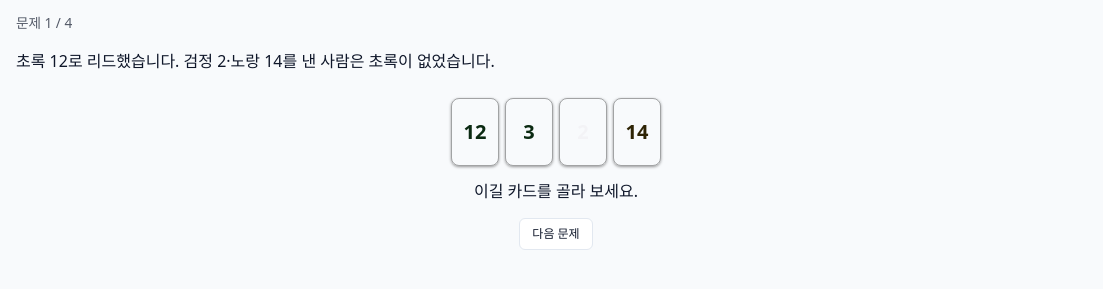
TrickQuiz › 문제 3 의 정답은 티그리스 (해적 선언)
The image size is (1103, 289).
Click the button "다음 문제" at x=556, y=234, box [519,218,593,250]
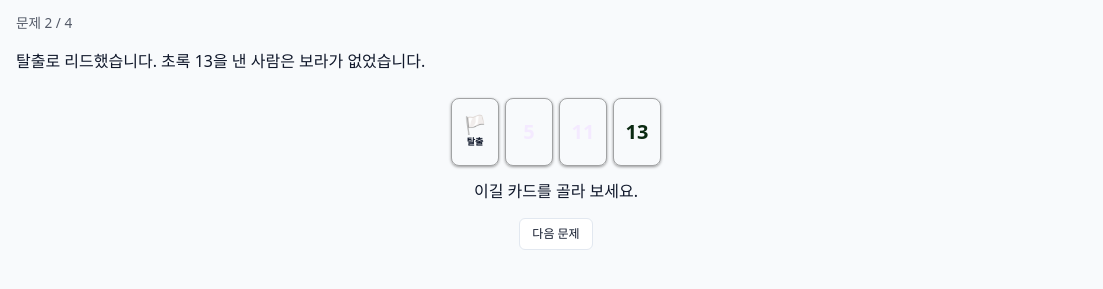
Click the button "다음 문제" at x=556, y=234, box [519,218,593,250]
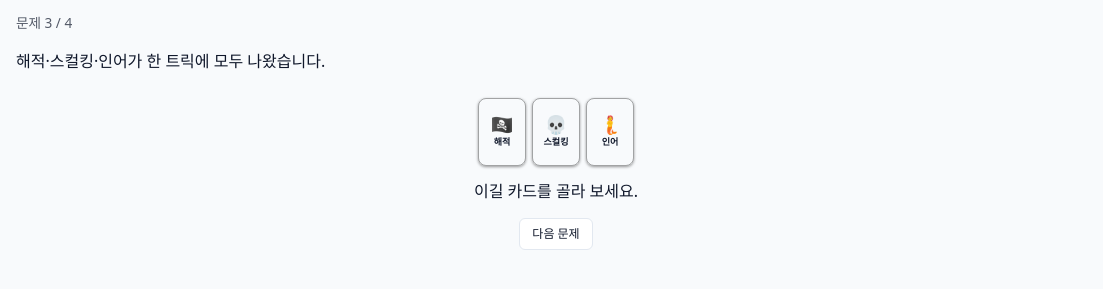
Click the button "다음 문제" at x=556, y=234, box [519,218,593,250]
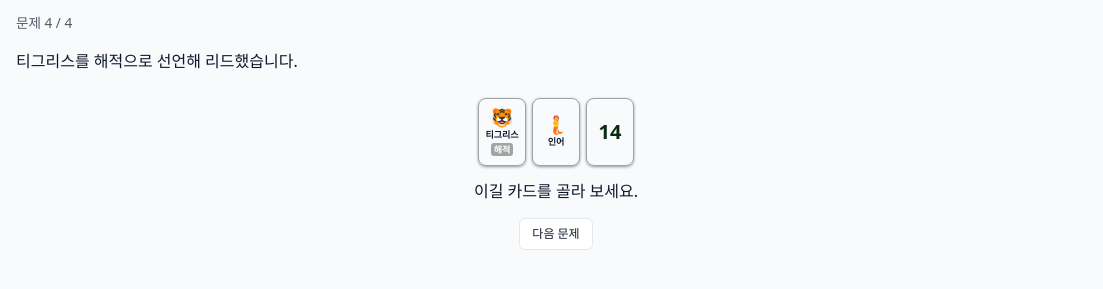
Click the button with aria-label "티그리스 (해적 선언)" at x=502, y=132, box [478,98,526,166]
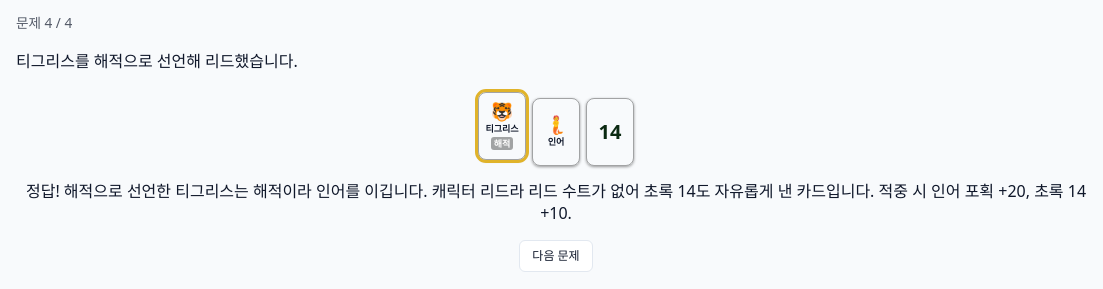
Expected: the message shows "정답!", [26,180,1086,224]
